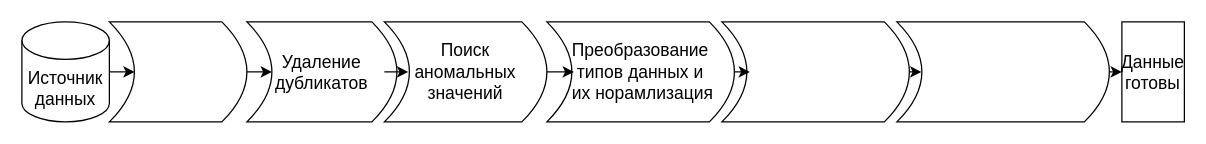
This 1206x144 diagram has some shape labels left out. Here are the shapes that lost their labels. From the top down, the centre of each, then its label:
At [177,71]: "Загрузка данных".
At [815,71]: "Котигорование категориальных признаков".
At [1002,71]: "Масштабирование признаков".
